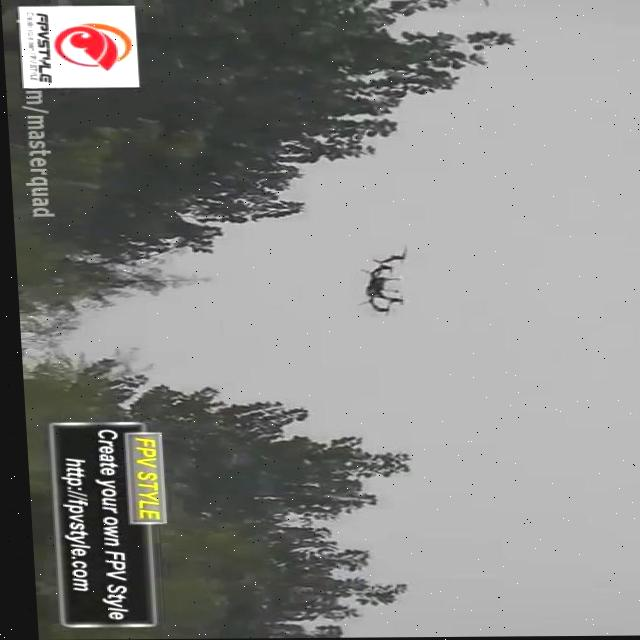drone: (347, 240, 415, 320)
